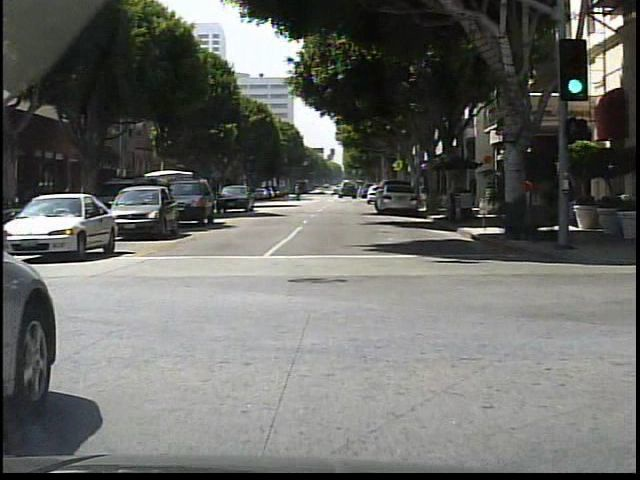person: (557, 160, 577, 242), (447, 172, 463, 220), (523, 171, 536, 227), (292, 182, 301, 201)
